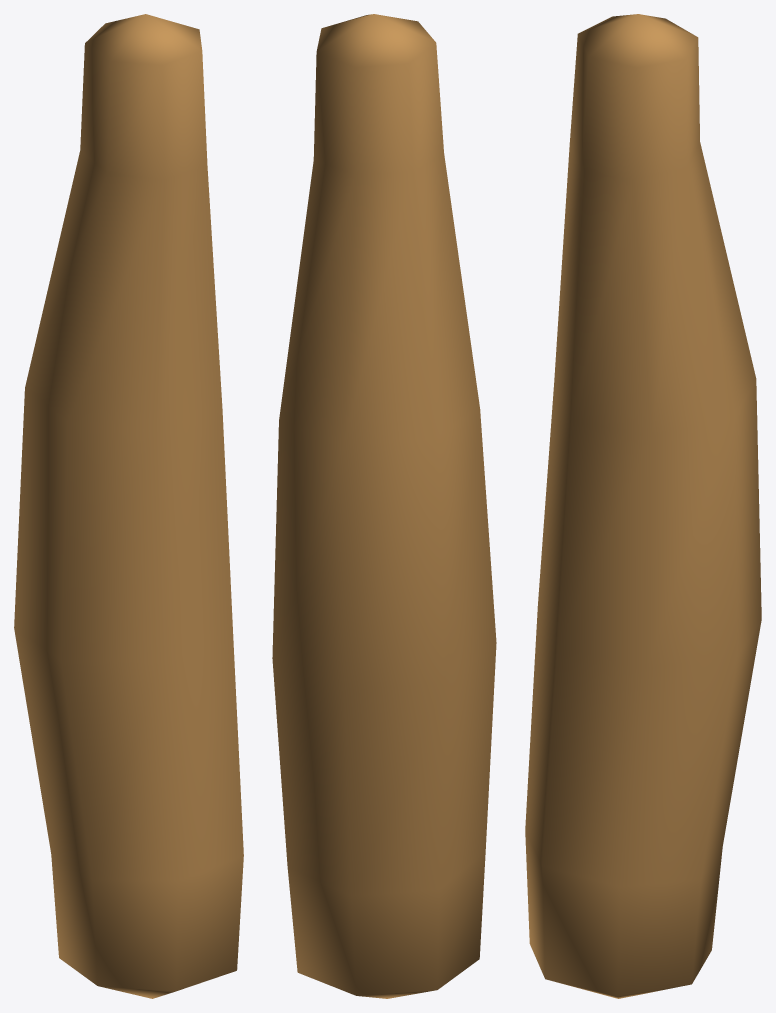
File: tarsus4_T2_right_leg.obj
3 renders of one model, left to right at view 1: azimuth 30°, elevation 25°; view 2: azimuth 150°, elevation 25°; view 3: azimuth 270°, elevation 25°, orthographic.
Bounding box in the file's own units: 0.00243 × 0.012 × 0.00261.
